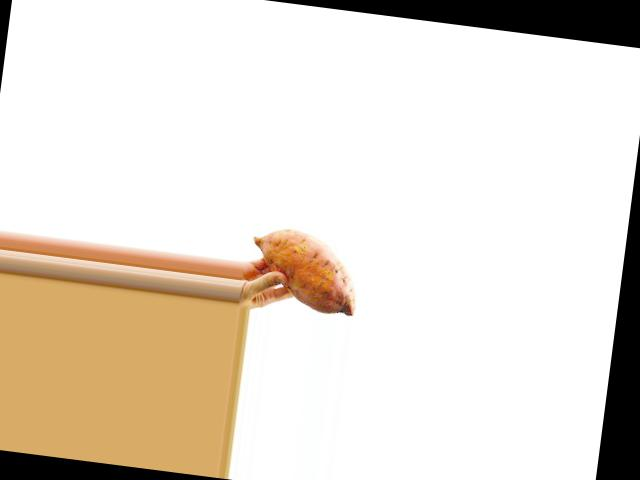sweet_potato: (249, 218, 367, 320)
